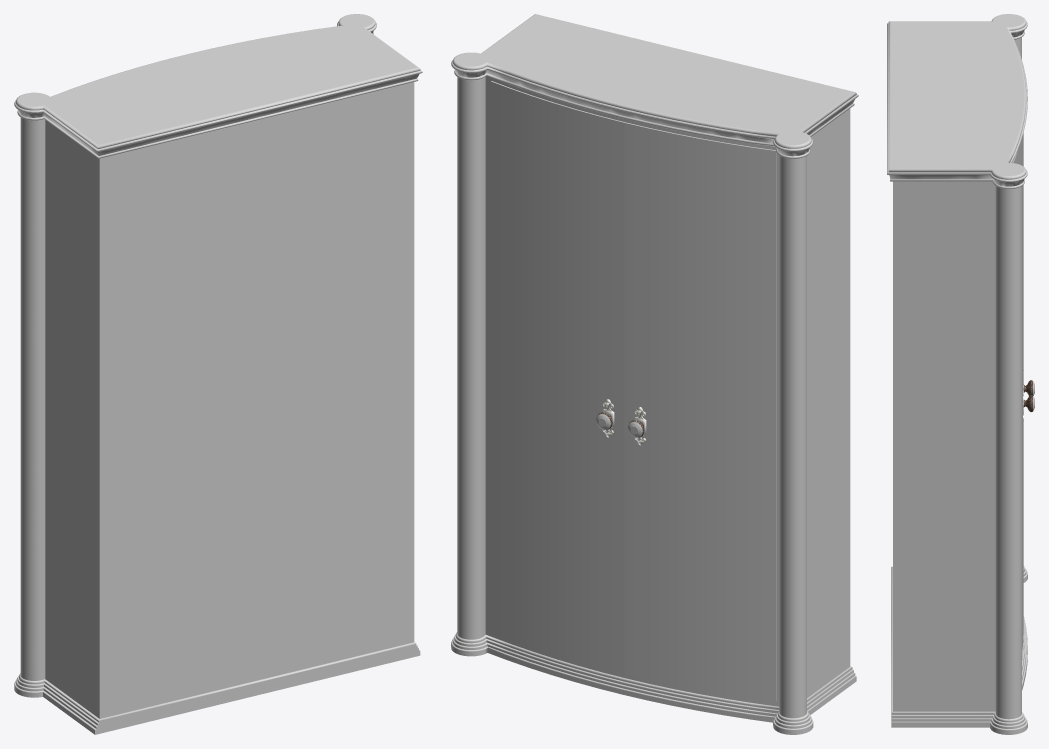
The picture shows the model from 3 angles, left to right: view 1: azimuth 30°, elevation 25°; view 2: azimuth 150°, elevation 25°; view 3: azimuth 270°, elevation 25°; orthographic projection. The views are drawn at different scales.
Parts seen in each view (by area): view 1: mesh1_mesh1-geometry, mesh8_mesh8-geometry, mesh3_mesh3-geometry, mesh6_mesh6-geometry, mesh7_mesh7-geometry, mesh5_mesh5-geometry; view 2: mesh9_mesh9-geometry, mesh11_mesh11-geometry, mesh1_mesh1-geometry, mesh8_mesh8-geometry, mesh3_mesh3-geometry, mesh6_mesh6-geometry, mesh7_mesh7-geometry, mesh5_mesh5-geometry; view 3: mesh1_mesh1-geometry, mesh8_mesh8-geometry, mesh3_mesh3-geometry, mesh7_mesh7-geometry, mesh11_mesh11-geometry, mesh6_mesh6-geometry, mesh5_mesh5-geometry.
Part boxes in pixels (left/top/right/bottom): mesh1_mesh1-geometry: left=20, top=82, right=414, bottom=718; mesh8_mesh8-geometry: left=16, top=14, right=420, bottom=148; mesh3_mesh3-geometry: left=14, top=642, right=420, bottom=734; mesh6_mesh6-geometry: left=17, top=31, right=419, bottom=155; mesh7_mesh7-geometry: left=14, top=21, right=422, bottom=151; mesh5_mesh5-geometry: left=17, top=32, right=418, bottom=158; mesh9_mesh9-geometry: left=624, top=122, right=776, bottom=701; mesh11_mesh11-geometry: left=490, top=81, right=624, bottom=672; mesh1_mesh1-geometry: left=457, top=76, right=850, bottom=718; mesh8_mesh8-geometry: left=452, top=14, right=856, bottom=148; mesh3_mesh3-geometry: left=451, top=632, right=856, bottom=734; mesh6_mesh6-geometry: left=454, top=69, right=854, bottom=156; mesh7_mesh7-geometry: left=451, top=60, right=858, bottom=151; mesh5_mesh5-geometry: left=454, top=70, right=854, bottom=158; mesh1_mesh1-geometry: left=893, top=37, right=1021, bottom=719; mesh8_mesh8-geometry: left=888, top=14, right=1026, bottom=179; mesh3_mesh3-geometry: left=891, top=566, right=1027, bottom=734; mesh7_mesh7-geometry: left=887, top=21, right=1027, bottom=182; mesh11_mesh11-geometry: left=1013, top=133, right=1023, bottom=651; mesh6_mesh6-geometry: left=889, top=30, right=1024, bottom=186; mesh5_mesh5-geometry: left=890, top=31, right=1024, bottom=189.
Size of the model in its own units: 0.5251 by 0.8274 by 0.199.
